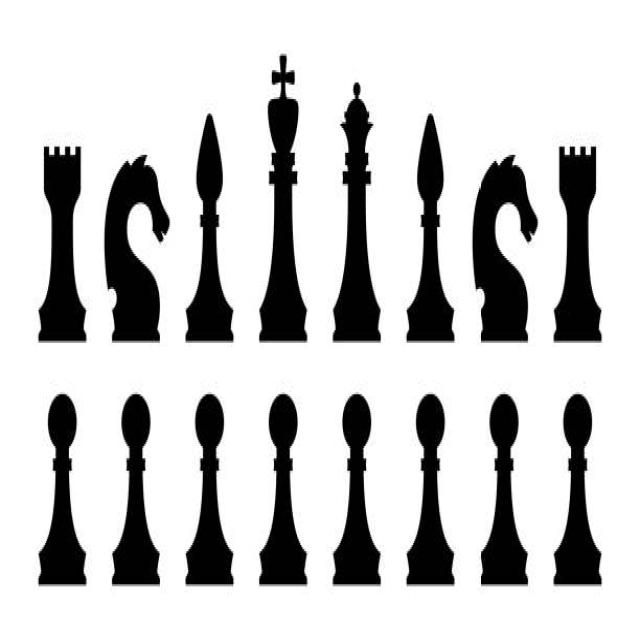black-bishop: (406, 114, 454, 340), (186, 114, 233, 340)
black-king: (260, 56, 308, 342)
black-knight: (104, 155, 170, 341), (472, 155, 538, 341)
black-pawn: (38, 393, 87, 585), (332, 393, 381, 584), (185, 394, 234, 584), (406, 393, 454, 585), (480, 394, 528, 585), (112, 394, 160, 585), (260, 395, 308, 585), (554, 394, 601, 585)
black-queen: (332, 82, 381, 342)
black-rook: (553, 146, 602, 343), (38, 146, 87, 343)
